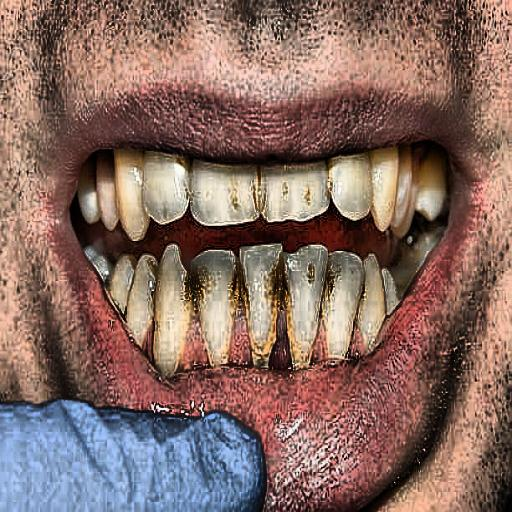Calculus: (78, 110, 452, 231), (96, 231, 399, 367)
